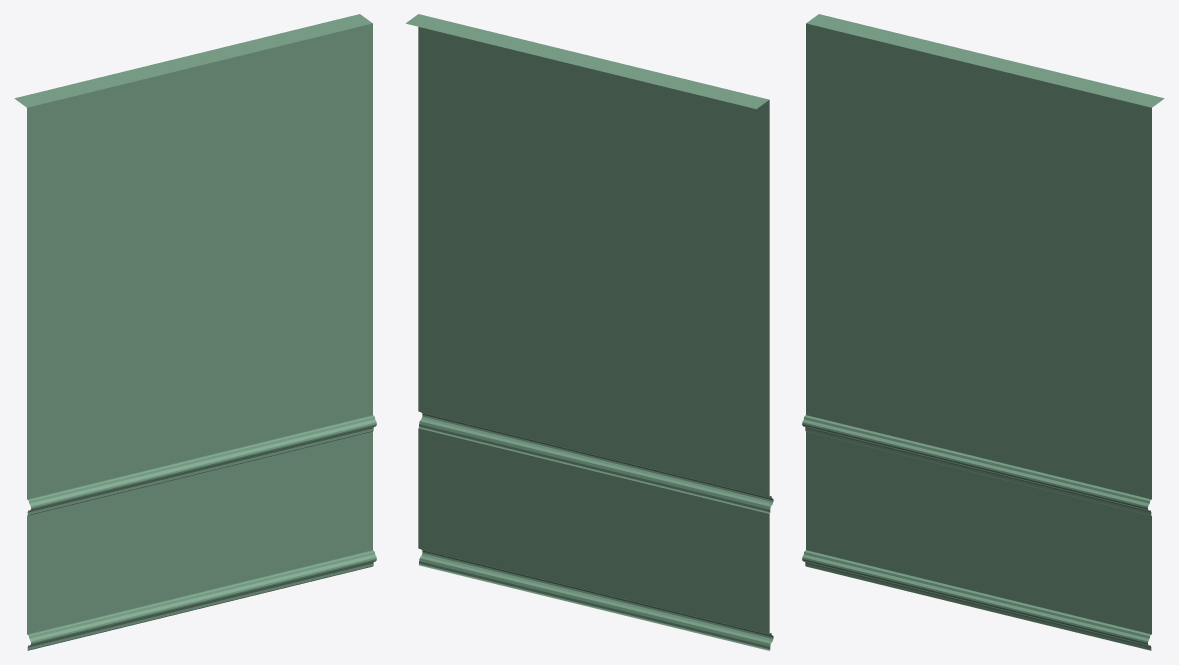
File: BathroomWall.fbx
3 renders of one model, left to right at view 1: azimuth 30°, elevation 25°; view 2: azimuth 150°, elevation 25°; view 3: azimuth 330°, elevation 25°, orthographic.
Parts seen in each view (by area): view 1: ModWall; view 2: ModWall; view 3: ModWall.
Part boxes in pixels (left/top/right/bottom): ModWall: left=14, top=14, right=376, bottom=650; ModWall: left=406, top=14, right=773, bottom=650; ModWall: left=802, top=14, right=1164, bottom=650.
Bounding box in the file's own units: 240 × 360 × 20.25.
